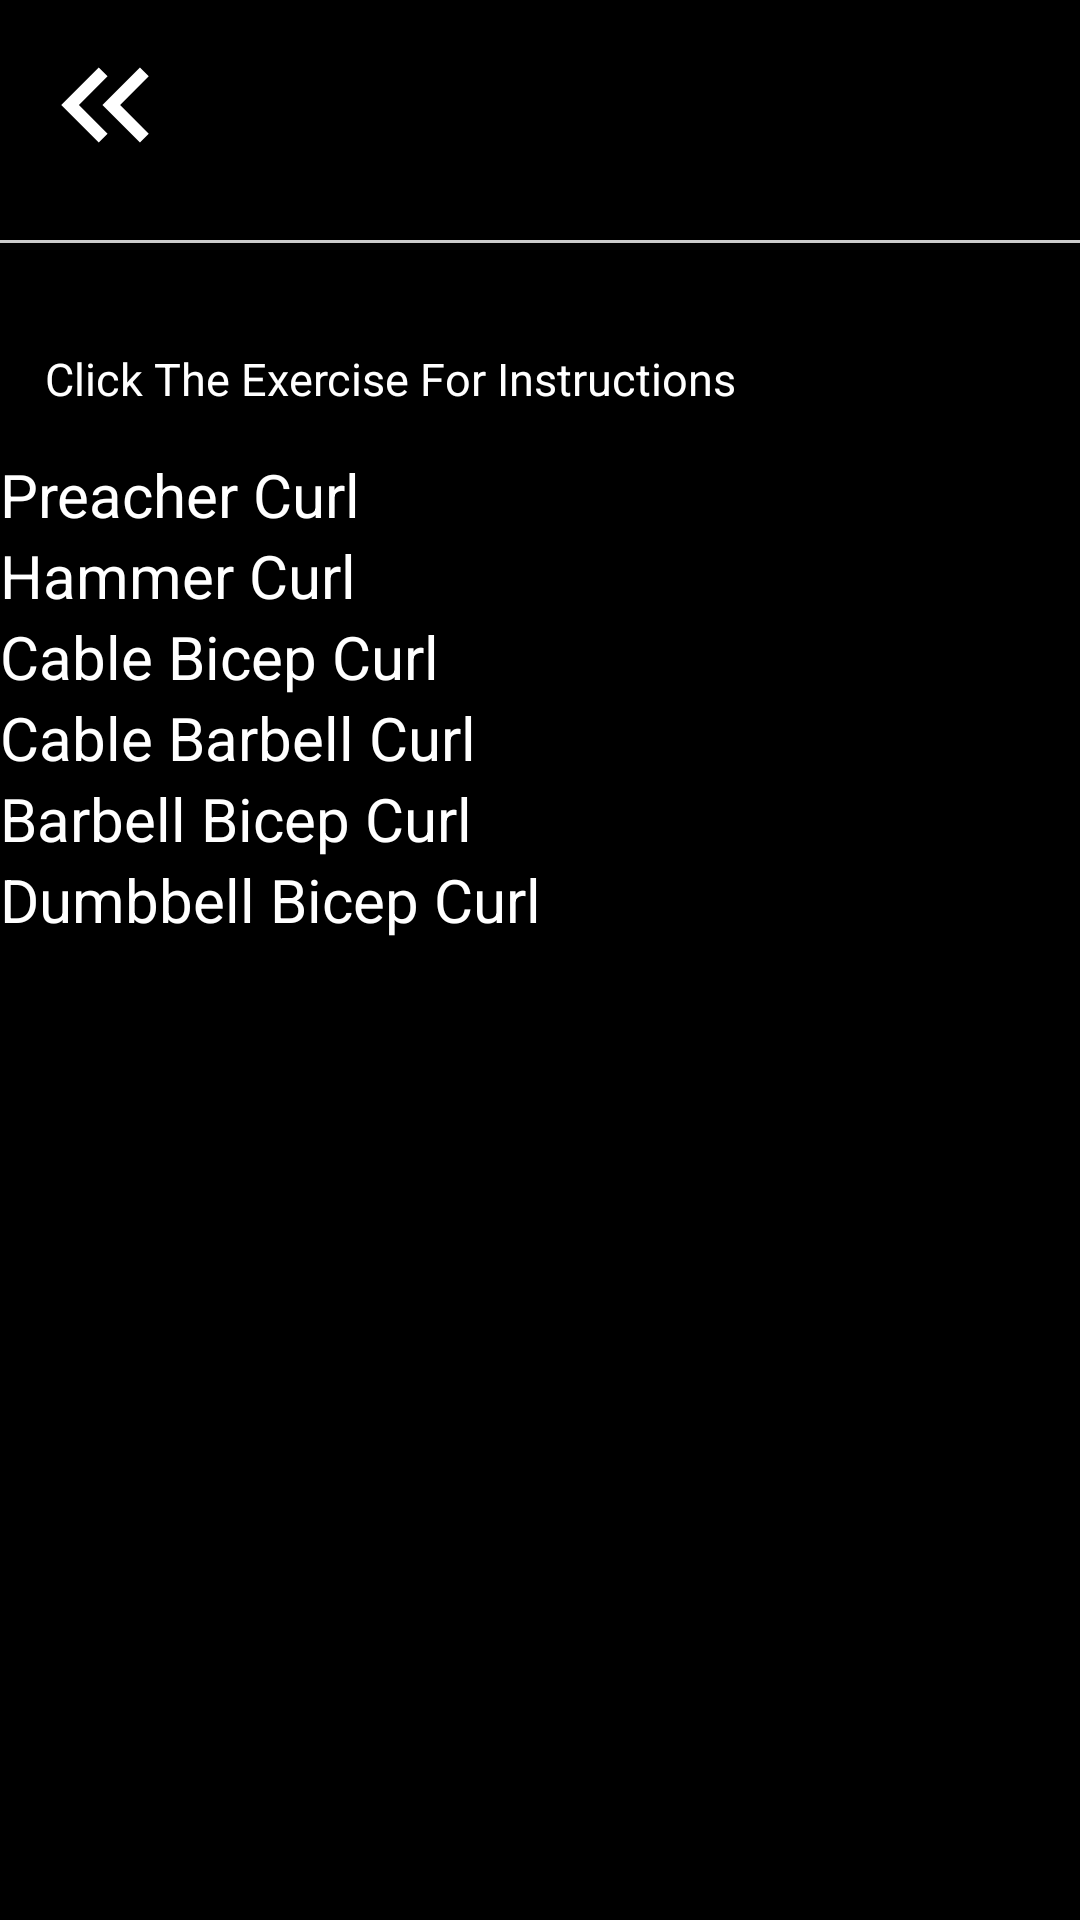

Named icons in this screenshot (1080px×1920px) and their bounding boxes, (x1, y1, x2, y2):
keyboard double arrow left: (61, 67, 149, 143)
